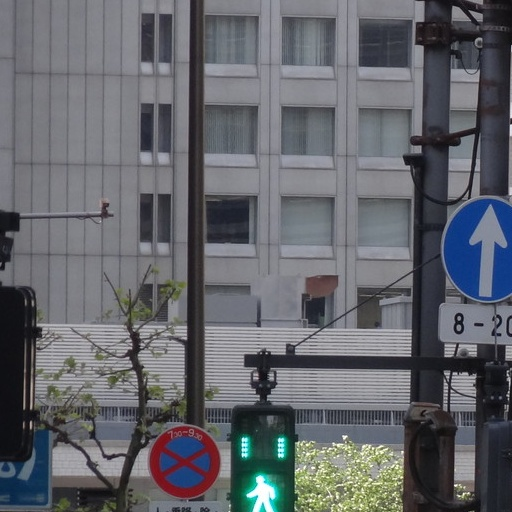Pedestrian_Signal_Blue: (232, 401, 293, 512)
